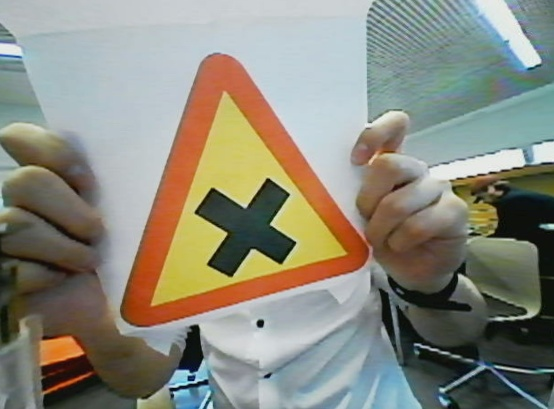junction: (114, 52, 379, 331)
